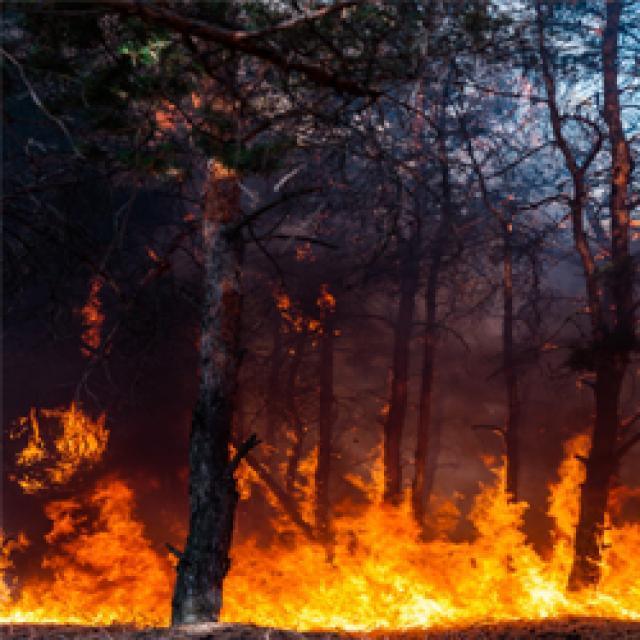Fire: (0, 404, 640, 634), (70, 272, 104, 348), (155, 88, 200, 137), (209, 156, 234, 184)
Smoke: (358, 0, 598, 406), (276, 243, 341, 359)
